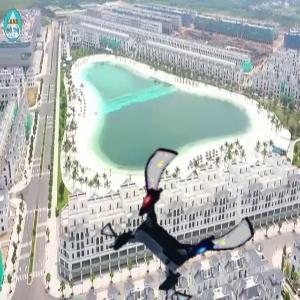drone: (108, 159, 242, 293)
